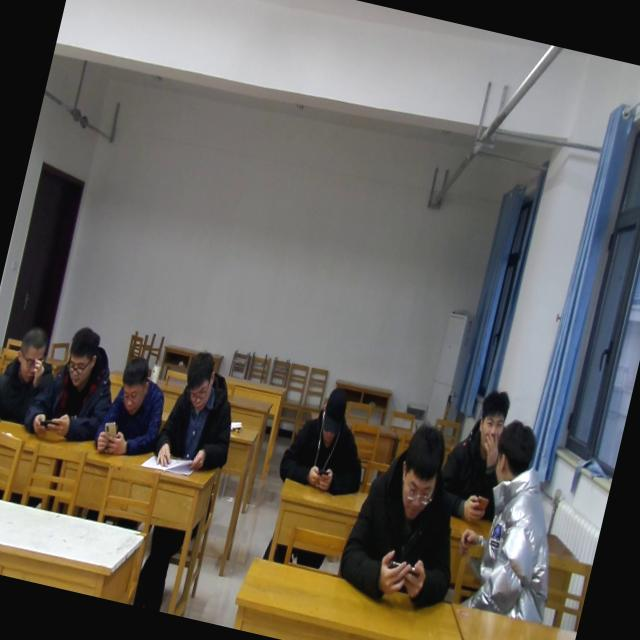down: (388, 414, 452, 523), (56, 320, 106, 395), (175, 342, 223, 412), (111, 350, 156, 416), (312, 380, 352, 450)
lookup: (468, 384, 514, 450)
sit: (330, 408, 486, 621), (444, 411, 588, 624), (432, 377, 531, 532), (16, 316, 127, 454), (150, 343, 250, 481), (274, 378, 380, 498), (90, 348, 176, 464), (0, 318, 67, 433)
